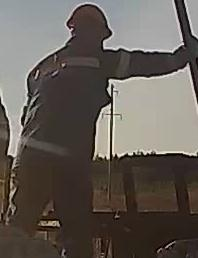gloves: (174, 36, 198, 69)
helmet: (64, 1, 113, 37)
vest: (18, 44, 132, 179)
